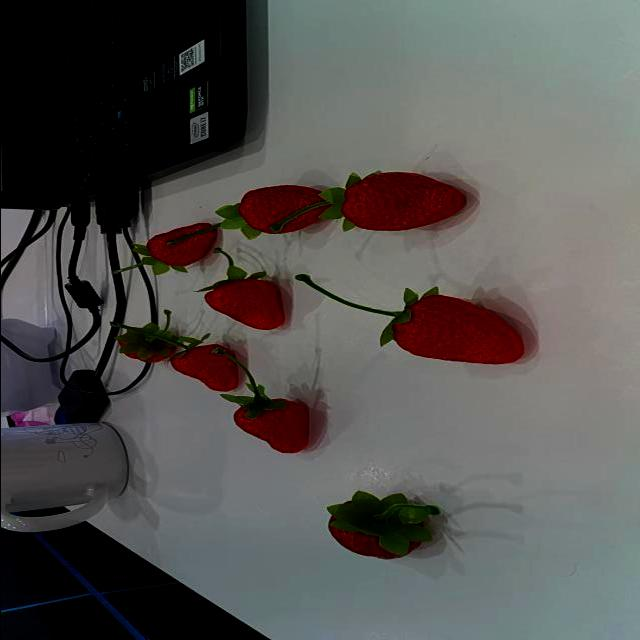ripe: (378, 292, 534, 364), (334, 168, 476, 235), (314, 492, 434, 558), (226, 177, 336, 235), (198, 268, 288, 334), (227, 392, 313, 454), (139, 220, 219, 273), (168, 344, 244, 390), (106, 321, 172, 366)
